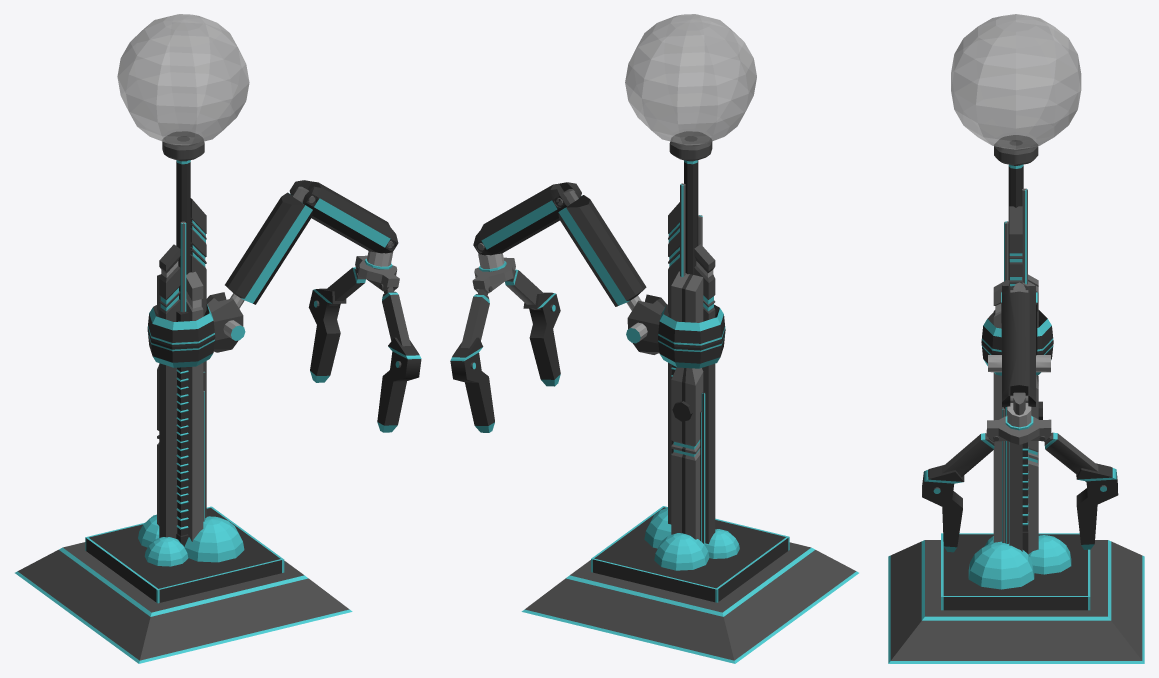
File: PokeBot.fbx
3 views of the same model, side by side, from view 1: azimuth 30°, elevation 25°; view 2: azimuth 150°, elevation 25°; view 3: azimuth 270°, elevation 25° (orthographic). The views are drawn at different scales.
Parts seen in each view (by area): view 1: polySurface15; view 2: polySurface15; view 3: polySurface15.
Boxes of the visible parts, <box> form: polySurface15: <box>15,14,421,663</box>; polySurface15: <box>450,14,858,663</box>; polySurface15: <box>888,14,1144,663</box>.
Size of the model in its own units: 1.49 by 2.54 by 0.9992.
